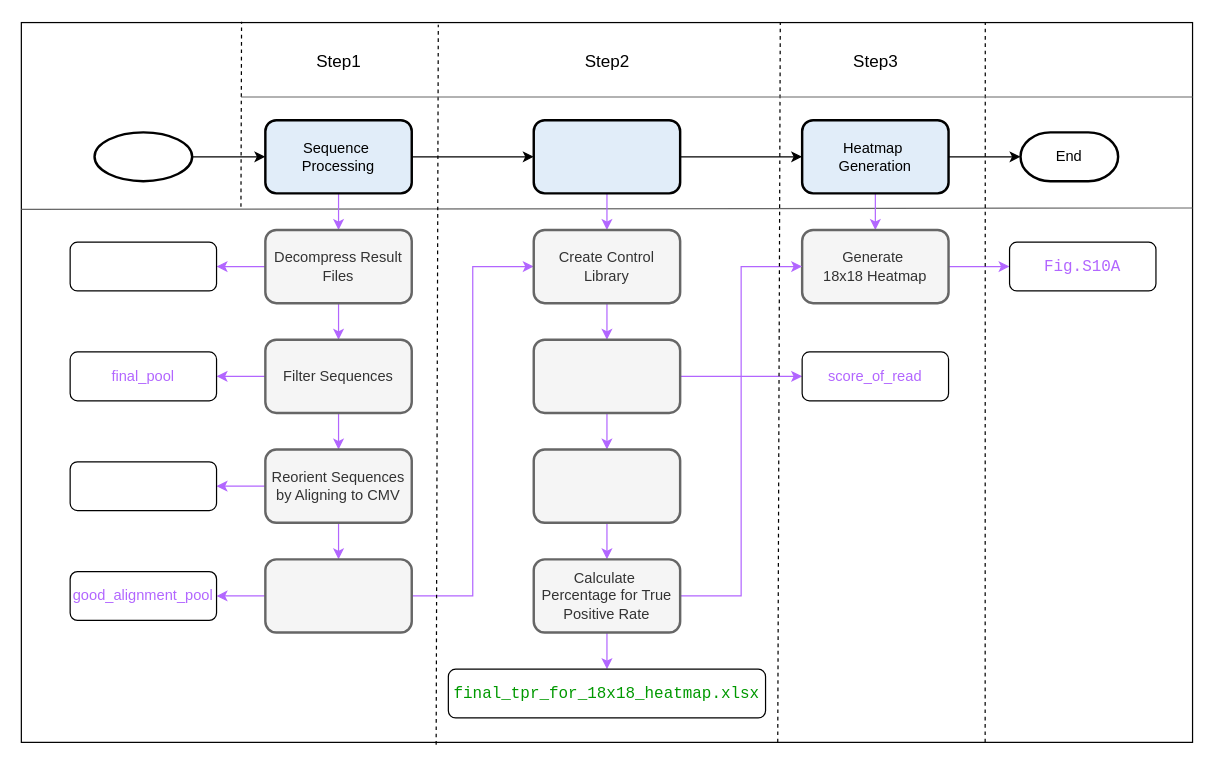
The diagram is 1215 pixels wide and 767 high, and some of its shapes have lost their labels. Each missing label, with the box of its shape:
Align Sequences to Control Library: (532, 338, 681, 414)
Alignment and Analysis: (532, 118, 681, 194)
Classify Sequence: (264, 558, 412, 633)
final_seq_pool: (69, 461, 217, 511)
Identify Each Sequence: (532, 448, 681, 523)
seq_pool: (69, 241, 217, 291)
Start: (93, 131, 193, 182)
